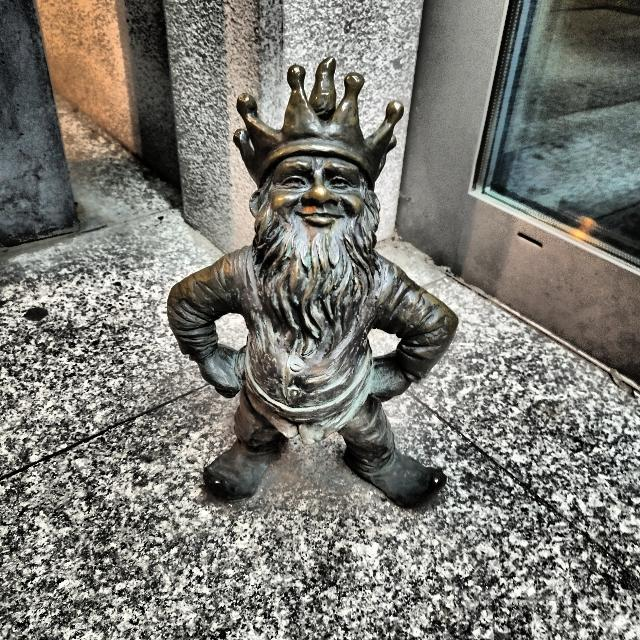Koronus: (166, 60, 458, 510)
